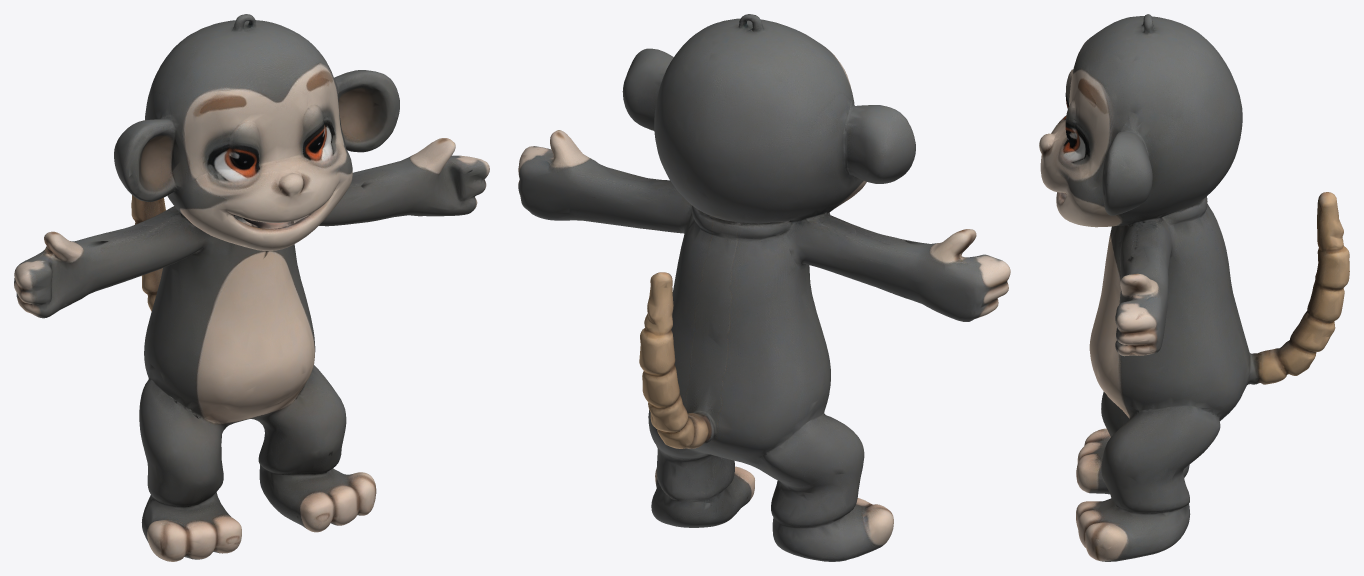
The model's file is suzanne-tpose.glb.
The picture shows the model from 3 angles, left to right: view 1: azimuth 30°, elevation 25°; view 2: azimuth 150°, elevation 25°; view 3: azimuth 270°, elevation 25°; orthographic projection. The views are drawn at different scales.
Size of the model in its own units: 1.94 by 2 by 1.13.
1 material, 1 textured.
